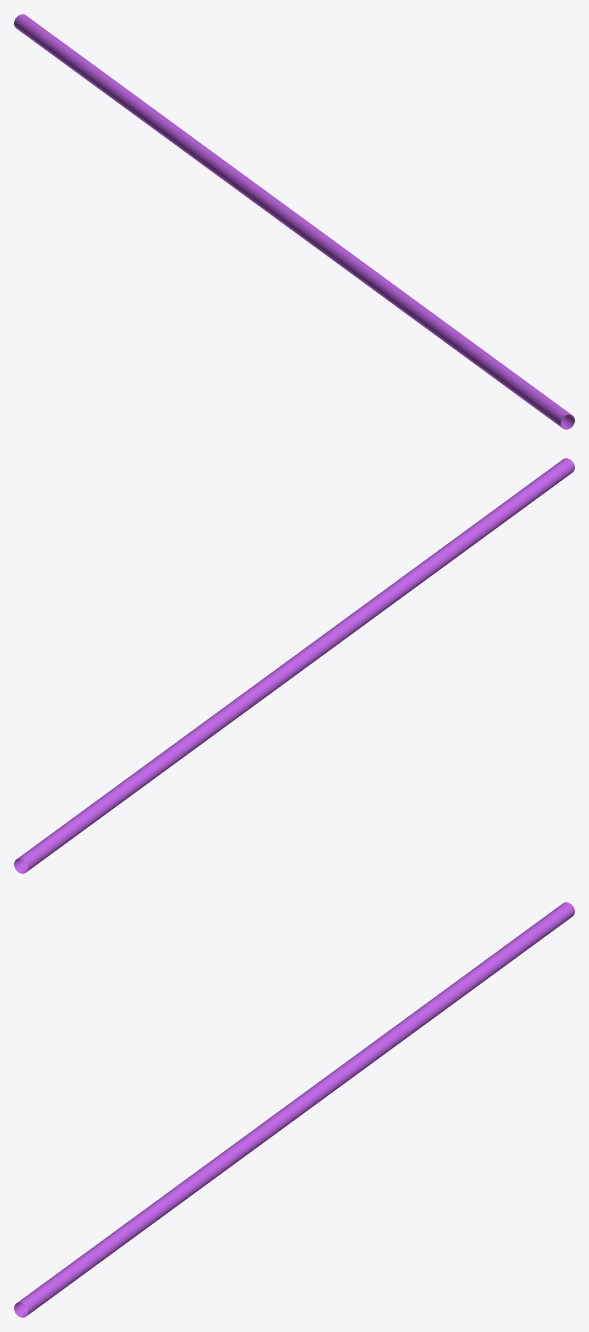
Rendered from Friday_Closest.fbx.
3 views of the same model, one above another, from view 1: azimuth 30°, elevation 25°; view 2: azimuth 150°, elevation 25°; view 3: azimuth 330°, elevation 25° (orthographic).
Visible parts, largest first — view 1: Closet; view 2: Closet; view 3: Closet.
Part boxes in pixels (box(x1,y1,x2,y2)): Closet: box(14, 14, 574, 429); Closet: box(14, 458, 574, 873); Closet: box(14, 902, 574, 1317).
Bounding box in the file's own units: 2 × 2 × 133.
